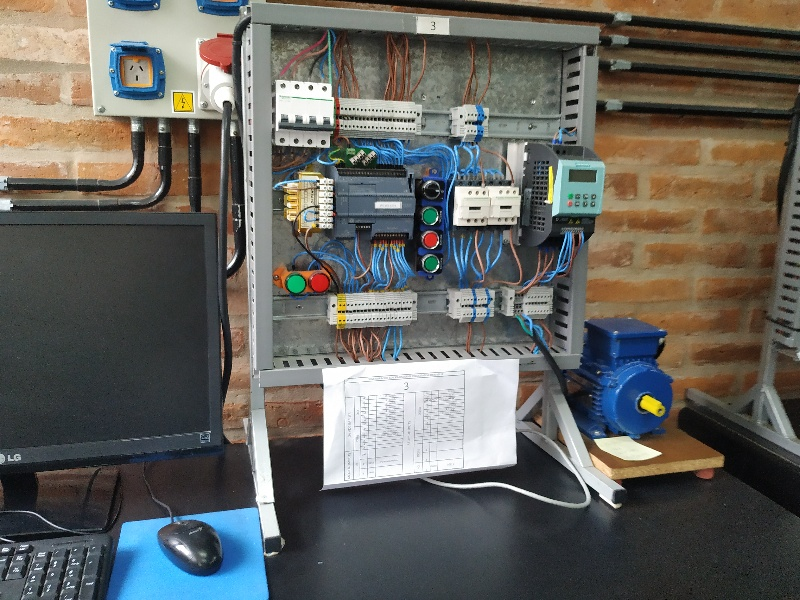Tablero 3: (265, 14, 600, 364)
